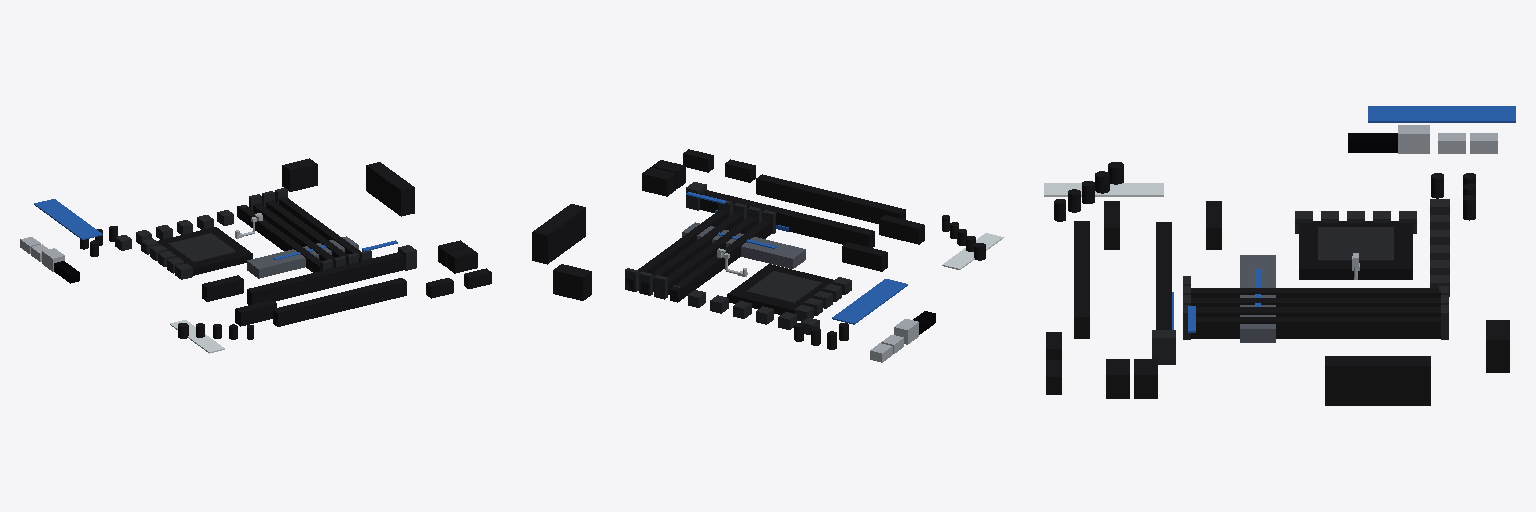
robot.urdf — enthusiast_motherboard:
<robot name="enthusiast_motherboard">
  <material name="pcb">
    <color rgba="0.07 0.16 0.1 1" />
    </material>
  <material name="silkscreen">
    <color rgba="0.83 0.86 0.88 1" />
    </material>
  <material name="slot_black">
    <color rgba="0.12 0.12 0.13 1" />
    </material>
  <material name="socket_black">
    <color rgba="0.11 0.11 0.12 1" />
    </material>
  <material name="charcoal">
    <color rgba="0.18 0.19 0.21 1" />
    </material>
  <material name="steel">
    <color rgba="0.69 0.71 0.74 1" />
    </material>
  <material name="heatsink_dark">
    <color rgba="0.23 0.25 0.28 1" />
    </material>
  <material name="anodized_gray">
    <color rgba="0.36 0.38 0.42 1" />
    </material>
  <material name="accent_blue">
    <color rgba="0.2 0.42 0.74 1" />
    </material>
  <material name="gold">
    <color rgba="0.78 0.65 0.24 1" />
    </material>
  <material name="port_black">
    <color rgba="0.05 0.05 0.06 1" />
    </material>
  <link name="motherboard_base">
    <inertial>
      <origin xyz="0 0 0.02" rpy="0 0 0" />
      <mass value="1.55" />
      <inertia ixx="0.00789673" ixy="0" ixz="0" iyy="0.0122224" iyz="0" izz="0.0197058" />
      </inertial>
    <visual>
      <geometry>
        <mesh filename="assets/meshes/motherboard_pcb.obj" />
        </geometry>
      <material name="pcb" />
      </visual>
    <visual>
      <origin xyz="-0.136 0.083 0.002" rpy="0 0 0" />
      <geometry>
        <mesh filename="assets/meshes/rear_io_shroud.obj" />
        </geometry>
      <material name="anodized_gray" />
      </visual>
    <visual>
      <origin xyz="-0.04 0.096 0.002" rpy="0 0 0" />
      <geometry>
        <mesh filename="assets/meshes/vrm_sink_top.obj" />
        </geometry>
      <material name="heatsink_dark" />
      </visual>
    <visual>
      <origin xyz="-0.084 0.046 0.002" rpy="0 0 1.5708" />
      <geometry>
        <mesh filename="assets/meshes/vrm_sink_left.obj" />
        </geometry>
      <material name="heatsink_dark" />
      </visual>
    <visual>
      <origin xyz="0.07 -0.057 0.002" rpy="0 0 0" />
      <geometry>
        <mesh filename="assets/meshes/chipset_shroud.obj" />
        </geometry>
      <material name="anodized_gray" />
      </visual>
    <visual>
      <origin xyz="0.028 -0.009 0.006" rpy="0 0 0" />
      <geometry>
        <box size="0.088 0.018 0.008" />
        </geometry>
      <material name="anodized_gray" />
      </visual>
    <visual>
      <origin xyz="0.022 -0.056 0.008" rpy="0 0 0" />
      <geometry>
        <box size="0.136 0.008 0.012" />
        </geometry>
      <material name="slot_black" />
      </visual>
    <visual>
      <origin xyz="-0.055 -0.031 0.008" rpy="0 0 0" />
      <geometry>
        <box size="0.032 0.008 0.012" />
        </geometry>
      <material name="slot_black" />
      </visual>
    <visual>
      <origin xyz="-0.055 -0.082 0.008" rpy="0 0 0" />
      <geometry>
        <box size="0.032 0.008 0.012" />
        </geometry>
      <material name="slot_black" />
      </visual>
    <visual>
      <origin xyz="0.01 -0.097 0.008" rpy="0 0 0" />
      <geometry>
        <box size="0.114 0.008 0.012" />
        </geometry>
      <material name="slot_black" />
      </visual>
    <visual>
      <origin xyz="0.02 -0.056 0.00255" rpy="0 0 0" />
      <geometry>
        <box size="0.118 0.0016 0.0011" />
        </geometry>
      <material name="gold" />
      </visual>
    <visual>
      <origin xyz="-0.055 -0.031 0.00255" rpy="0 0 0" />
      <geometry>
        <box size="0.024 0.0016 0.0011" />
        </geometry>
      <material name="gold" />
      </visual>
    <visual>
      <origin xyz="-0.055 -0.082 0.00255" rpy="0 0 0" />
      <geometry>
        <box size="0.024 0.0016 0.0011" />
        </geometry>
      <material name="gold" />
      </visual>
    <visual>
      <origin xyz="0.006 -0.097 0.00255" rpy="0 0 0" />
      <geometry>
        <box size="0.096 0.0016 0.0011" />
        </geometry>
      <material name="gold" />
      </visual>
    <visual>
      <origin xyz="0.093 -0.056 0.0095" rpy="0 0 0" />
      <geometry>
        <box size="0.01 0.012 0.015" />
        </geometry>
      <material name="charcoal" />
      </visual>
    <visual>
      <origin xyz="0.14 0.051 0.013" rpy="0 0 0" />
      <geometry>
        <box size="0.012 0.053 0.022" />
        </geometry>
      <material name="slot_black" />
      </visual>
    <visual>
      <origin xyz="0.095 0.111 0.011" rpy="0 0 0" />
      <geometry>
        <box size="0.024 0.012 0.018" />
        </geometry>
      <material name="slot_black" />
      </visual>
    <visual>
      <origin xyz="0.128 -0.079 0.0085" rpy="0 0 0" />
      <geometry>
        <box size="0.02 0.012 0.013" />
        </geometry>
      <material name="slot_black" />
      </visual>
    <visual>
      <origin xyz="0.128 -0.065 0.0085" rpy="0 0 0" />
      <geometry>
        <box size="0.02 0.012 0.013" />
        </geometry>
      <material name="slot_black" />
      </visual>
    <visual>
      <origin xyz="0.123 -0.111 0.007" rpy="0 0 0" />
      <geometry>
        <box size="0.02 0.008 0.01" />
        </geometry>
      <material name="slot_black" />
      </visual>
    <visual>
      <origin xyz="0.09 -0.111 0.007" rpy="0 0 0" />
      <geometry>
        <box size="0.02 0.008 0.01" />
        </geometry>
      <material name="slot_black" />
      </visual>
    <visual>
      <origin xyz="-0.077 0.082 0.006" rpy="0 0 0" />
      <geometry>
        <box size="0.009 0.01 0.008" />
        </geometry>
      <material name="charcoal" />
      </visual>
    <visual>
      <origin xyz="-0.059 0.082 0.006" rpy="0 0 0" />
      <geometry>
        <box size="0.009 0.01 0.008" />
        </geometry>
      <material name="charcoal" />
      </visual>
    <visual>
      <origin xyz="-0.041 0.082 0.006" rpy="0 0 0" />
      <geometry>
        <box size="0.009 0.01 0.008" />
        </geometry>
      <material name="charcoal" />
      </visual>
    <visual>
      <origin xyz="-0.023 0.082 0.006" rpy="0 0 0" />
      <geometry>
        <box size="0.009 0.01 0.008" />
        </geometry>
      <material name="charcoal" />
      </visual>
    <visual>
      <origin xyz="-0.005 0.082 0.006" rpy="0 0 0" />
      <geometry>
        <box size="0.009 0.01 0.008" />
        </geometry>
      <material name="charcoal" />
      </visual>
    <visual>
      <origin xyz="0.013 0.082 0.006" rpy="0 0 0" />
      <geometry>
        <box size="0.009 0.01 0.008" />
        </geometry>
      <material name="charcoal" />
      </visual>
    <visual>
      <origin xyz="-0.063 0.014 0.006" rpy="0 0 0" />
      <geometry>
        <box size="0.01 0.009 0.008" />
        </geometry>
      <material name="charcoal" />
      </visual>
    <visual>
      <origin xyz="-0.063 0.027 0.006" rpy="0 0 0" />
      <geometry>
        <box size="0.01 0.009 0.008" />
        </geometry>
      <material name="charcoal" />
      </visual>
    <visual>
      <origin xyz="-0.063 0.04 0.006" rpy="0 0 0" />
      <geometry>
        <box size="0.01 0.009 0.008" />
        </geometry>
      <material name="charcoal" />
      </visual>
    <visual>
      <origin xyz="-0.063 0.053 0.006" rpy="0 0 0" />
      <geometry>
        <box size="0.01 0.009 0.008" />
        </geometry>
      <material name="charcoal" />
      </visual>
    <visual>
      <origin xyz="-0.063 0.066 0.006" rpy="0 0 0" />
      <geometry>
        <box size="0.01 0.009 0.008" />
        </geometry>
      <material name="charcoal" />
      </visual>
    <visual>
      <origin xyz="-0.103 0.097 0.0075" rpy="0 0 0" />
      <geometry>
        <cylinder radius="0.0034" length="0.011" />
        </geometry>
      <material name="slot_black" />
      </visual>
    <visual>
      <origin xyz="-0.09 0.097 0.0075" rpy="0 0 0" />
      <geometry>
        <cylinder radius="0.0034" length="0.011" />
        </geometry>
      <material name="slot_black" />
      </visual>
    <visual>
      <origin xyz="-0.077 0.097 0.0075" rpy="0 0 0" />
      <geometry>
        <cylinder radius="0.0034" length="0.011" />
        </geometry>
      <material name="slot_black" />
      </visual>
    <visual>
      <origin xyz="-0.103 0.081 0.0075" rpy="0 0 0" />
      <geometry>
        <cylinder radius="0.0034" length="0.011" />
        </geometry>
      <material name="slot_black" />
      </visual>
    <visual>
      <origin xyz="-0.118 -0.08 0.007" rpy="0 0 0" />
      <geometry>
        <cylinder radius="0.004" length="0.01" />
        </geometry>
      <material name="slot_black" />
      </visual>
    <visual>
      <origin xyz="-0.107 -0.087 0.007" rpy="0 0 0" />
      <geometry>
        <cylinder radius="0.0036" length="0.01" />
        </geometry>
      <material name="slot_black" />
      </visual>
    <visual>
      <origin xyz="-0.096 -0.094 0.007" rpy="0 0 0" />
      <geometry>
        <cylinder radius="0.0034" length="0.01" />
        </geometry>
      <material name="slot_black" />
      </visual>
    <visual>
      <origin xyz="-0.086 -0.101 0.007" rpy="0 0 0" />
      <geometry>
        <cylinder radius="0.0032" length="0.01" />
        </geometry>
      <material name="slot_black" />
      </visual>
    <visual>
      <origin xyz="-0.075 -0.108 0.007" rpy="0 0 0" />
      <geometry>
        <cylinder radius="0.003" length="0.01" />
        </geometry>
      <material name="slot_black" />
      </visual>
    <visual>
      <origin xyz="-0.109 -0.086 0.0025" rpy="0 0 0" />
      <geometry>
        <box size="0.014 0.06 0.001" />
        </geometry>
      <material name="silkscreen" />
      </visual>
    <visual>
      <origin xyz="0.077 -0.042 0.0175" rpy="0 0 0" />
      <geometry>
        <box size="0.03 0.004 0.001" />
        </geometry>
      <material name="accent_blue" />
      </visual>
    <visual>
      <origin xyz="0.028 -0.009 0.0104" rpy="0 0 0" />
      <geometry>
        <box size="0.05 0.0032 0.0008" />
        </geometry>
      <material name="accent_blue" />
      </visual>
    <visual>
      <origin xyz="-0.125 0.083 0.0365" rpy="0 0 0" />
      <geometry>
        <box size="0.018 0.074 0.001" />
        </geometry>
      <material name="accent_blue" />
      </visual>
    <visual>
      <origin xyz="-0.146 0.104 0.011" rpy="0 0 0" />
      <geometry>
        <box size="0.01 0.014 0.007" />
        </geometry>
      <material name="steel" />
      </visual>
    <visual>
      <origin xyz="-0.146 0.088 0.011" rpy="0 0 0" />
      <geometry>
        <box size="0.01 0.014 0.007" />
        </geometry>
      <material name="steel" />
      </visual>
    <visual>
      <origin xyz="-0.146 0.069 0.013" rpy="0 0 0" />
      <geometry>
        <box size="0.011 0.016 0.011" />
        </geometry>
      <material name="steel" />
      </visual>
    <visual>
      <origin xyz="-0.146 0.049 0.011" rpy="0 0 0" />
      <geometry>
        <box size="0.009 0.026 0.007" />
        </geometry>
      <material name="port_black" />
      </visual>
    </link>
  <link name="cpu_socket_frame">
    <inertial>
      <origin xyz="0 0 0.004" rpy="0 0 0" />
      <mass value="0.12" />
      <inertia ixx="4.16e-05" ixy="0" ixz="0" iyy="4.16e-05" iyz="0" izz="8.192e-05" />
      </inertial>
    <visual>
      <origin xyz="0 0 0.003" rpy="0 0 0" />
      <geometry>
        <box size="0.057 0.057 0.006" />
        </geometry>
      <material name="socket_black" />
      </visual>
    <visual>
      <origin xyz="0 0 0.0063" rpy="0 0 0" />
      <geometry>
        <box size="0.038 0.038 0.0008" />
        </geometry>
      <material name="charcoal" />
      </visual>
    <visual>
      <origin xyz="0 0 0.0057" rpy="0 0 0" />
      <geometry>
        <mesh filename="assets/meshes/cpu_socket_load_plate.obj" />
        </geometry>
      <material name="steel" />
      </visual>
    </link>
  <link name="dimm_bank">
    <inertial>
      <origin xyz="0 0 0.0085" rpy="0 0 0" />
      <mass value="0.1" />
      <inertia ixx="0.000189908" ixy="0" ixz="0" iyy="2.76167e-05" iyz="0" izz="0.000212708" />
      </inertial>
    <visual>
      <origin xyz="-0.01725 0 0.0045" rpy="0 0 0" />
      <geometry>
        <box size="0.0065 0.133 0.009" />
        </geometry>
      <material name="slot_black" />
      </visual>
    <visual>
      <origin xyz="-0.01725 0 0.0006" rpy="0 0 0" />
      <geometry>
        <box size="0.003 0.12635 0.0012" />
        </geometry>
      <material name="gold" />
      </visual>
    <visual>
      <origin xyz="-0.01725 -0.0645 0.0075" rpy="0 0 0" />
      <geometry>
        <box size="0.009 0.004 0.015" />
        </geometry>
      <material name="charcoal" />
      </visual>
    <visual>
      <origin xyz="-0.01725 0.0625 0.005" rpy="0 0 0" />
      <geometry>
        <box size="0.006 0.002 0.01" />
        </geometry>
      <material name="charcoal" />
      </visual>
    <visual>
      <origin xyz="-0.00575 0 0.0045" rpy="0 0 0" />
      <geometry>
        <box size="0.0065 0.133 0.009" />
        </geometry>
      <material name="slot_black" />
      </visual>
    <visual>
      <origin xyz="-0.00575 0 0.0006" rpy="0 0 0" />
      <geometry>
        <box size="0.003 0.12635 0.0012" />
        </geometry>
      <material name="gold" />
      </visual>
    <visual>
      <origin xyz="-0.00575 -0.0645 0.0075" rpy="0 0 0" />
      <geometry>
        <box size="0.009 0.004 0.015" />
        </geometry>
      <material name="charcoal" />
      </visual>
    <visual>
      <origin xyz="-0.00575 0.0645 0.0075" rpy="0 0 0" />
      <geometry>
        <box size="0.009 0.004 0.015" />
        </geometry>
      <material name="charcoal" />
      </visual>
    <visual>
      <origin xyz="0.00575 0 0.0045" rpy="0 0 0" />
      <geometry>
        <box size="0.0065 0.133 0.009" />
        </geometry>
      <material name="slot_black" />
      </visual>
    <visual>
      <origin xyz="0.00575 0 0.0006" rpy="0 0 0" />
      <geometry>
        <box size="0.003 0.12635 0.0012" />
        </geometry>
      <material name="gold" />
      </visual>
    <visual>
      <origin xyz="0.00575 -0.0645 0.0075" rpy="0 0 0" />
      <geometry>
        <box size="0.009 0.004 0.015" />
        </geometry>
      <material name="charcoal" />
      </visual>
    <visual>
      <origin xyz="0.00575 0.0645 0.0075" rpy="0 0 0" />
      <geometry>
        <box size="0.009 0.004 0.015" />
        </geometry>
      <material name="charcoal" />
      </visual>
    <visual>
      <origin xyz="0.01725 0 0.0045" rpy="0 0 0" />
      <geometry>
        <box size="0.0065 0.133 0.009" />
        </geometry>
      <material name="slot_black" />
      </visual>
    <visual>
      <origin xyz="0.01725 0 0.0006" rpy="0 0 0" />
      <geometry>
        <box size="0.003 0.12635 0.0012" />
        </geometry>
      <material name="gold" />
      </visual>
    <visual>
      <origin xyz="0.01725 -0.0645 0.0075" rpy="0 0 0" />
      <geometry>
        <box size="0.009 0.004 0.015" />
        </geometry>
      <material name="charcoal" />
      </visual>
    <visual>
      <origin xyz="0.01725 0.0645 0.0075" rpy="0 0 0" />
      <geometry>
        <box size="0.009 0.004 0.015" />
        </geometry>
      <material name="charcoal" />
      </visual>
    <visual>
      <origin xyz="0 -0.074 0.0015" rpy="0 0 0" />
      <geometry>
        <box size="0.058 0.006 0.003" />
        </geometry>
      <material name="accent_blue" />
      </visual>
    </link>
  <link name="cpu_retention_arm">
    <inertial>
      <origin xyz="0.015 0 0.011" rpy="0 0 0" />
      <mass value="0.014" />
      <inertia ixx="6.39333e-07" ixy="0" ixz="0" iyy="1.61467e-06" iyz="0" izz="1.12467e-06" />
      </inertial>
    <visual>
      <origin xyz="0.008 0 0.0013" rpy="0 1.5708 0" />
      <geometry>
        <cylinder radius="0.0011" length="0.013" />
        </geometry>
      <material name="steel" />
      </visual>
    <visual>
      <origin xyz="0.0145 0 0.007" rpy="0 0 0" />
      <geometry>
        <cylinder radius="0.0011" length="0.01" />
        </geometry>
      <material name="steel" />
      </visual>
    <visual>
      <origin xyz="0.0145 0 0.0121" rpy="0 0 0" />
      <geometry>
        <box size="0.0038 0.0028 0.0028" />
        </geometry>
      <material name="steel" />
      </visual>
    <visual>
      <origin xyz="0.0185 0 0.0152" rpy="0 0 0" />
      <geometry>
        <box size="0.0052 0.003 0.0012" />
        </geometry>
      <material name="steel" />
      </visual>
    <visual>
      <origin xyz="0.0195 0 0.0128" rpy="0 0 0" />
      <geometry>
        <box size="0.0035 0.0035 0.0048" />
        </geometry>
      <material name="steel" />
      </visual>
    <visual>
      <origin xyz="0.0015 0 0.0016" rpy="0 0 0" />
      <geometry>
        <box size="0.0055 0.004 0.002" />
        </geometry>
      <material name="steel" />
      </visual>
    <visual>
      <origin xyz="0 0 0.003" rpy="0 0 0" />
      <geometry>
        <cylinder radius="0.0016" length="0.006" />
        </geometry>
      <material name="steel" />
      </visual>
    </link>
  <link name="dimm_slot_latch">
    <inertial>
      <origin xyz="0 0.004 0.01" rpy="0 0 0" />
      <mass value="0.006" />
      <inertia ixx="2.5e-07" ixy="0" ixz="0" iyy="2.5e-07" iyz="0" izz="1e-07" />
      </inertial>
    <visual>
      <geometry>
        <mesh filename="assets/meshes/dimm_slot_latch.obj" />
        </geometry>
      <material name="charcoal" />
      </visual>
    </link>
  <joint name="base_to_cpu_socket" type="fixed">
    <origin xyz="-0.032 0.04 0.002" rpy="0 0 0" />
    <parent link="motherboard_base" />
    <child link="cpu_socket_frame" />
    </joint>
  <joint name="base_to_dimm_bank" type="fixed">
    <origin xyz="0.046 0.02 0.002" rpy="0 0 0" />
    <parent link="motherboard_base" />
    <child link="dimm_bank" />
    </joint>
  <joint name="cpu_retention_arm_joint" type="revolute">
    <origin xyz="0.031 0 0.0073" rpy="0 0 0" />
    <parent link="cpu_socket_frame" />
    <child link="cpu_retention_arm" />
    <axis xyz="0 -1 0" />
    <limit effort="1.5" velocity="2" lower="0" upper="1.35" />
    </joint>
  <joint name="dimm_latch_joint" type="revolute">
    <origin xyz="-0.01725 0.0675 0.0055" rpy="0 0 0" />
    <parent link="dimm_bank" />
    <child link="dimm_slot_latch" />
    <axis xyz="1 0 0" />
    <limit effort="0.5" velocity="3" lower="0" upper="1.05" />
    </joint>
  </robot>

--- Facts derived from the render (not from the file) ---
3 views of the same robot in one strip: view 1: azimuth 30°, elevation 25°; view 2: azimuth 150°, elevation 25°; view 3: azimuth 270°, elevation 25° (orthographic).
Model enthusiast_motherboard with 5 links and 4 joints (2 revolute, 2 fixed), rooted at motherboard_base, posed all joints at 0.
Links seen in each view (by area): view 1: motherboard_base, dimm_bank, cpu_socket_frame; view 2: motherboard_base, dimm_bank, cpu_socket_frame; view 3: motherboard_base, dimm_bank, cpu_socket_frame.
Boxes of the visible links, left/top/right/bottom form: motherboard_base: left=20, top=158, right=491, bottom=353; dimm_bank: left=237, top=188, right=371, bottom=272; cpu_socket_frame: left=157, top=227, right=252, bottom=275; motherboard_base: left=532, top=149, right=1003, bottom=362; dimm_bank: left=625, top=199, right=788, bottom=302; cpu_socket_frame: left=727, top=264, right=833, bottom=314; motherboard_base: left=1044, top=106, right=1515, bottom=405; dimm_bank: left=1172, top=276, right=1448, bottom=339; cpu_socket_frame: left=1299, top=221, right=1412, bottom=279.
Size in the robot's own frame: 0.2975 by 0.236 by 0.035 metres.
Meshes: 7 distinct files referenced, 0 mesh visuals loaded (none loaded); not drawn: 7 (reference not matched to a file when rendering).
